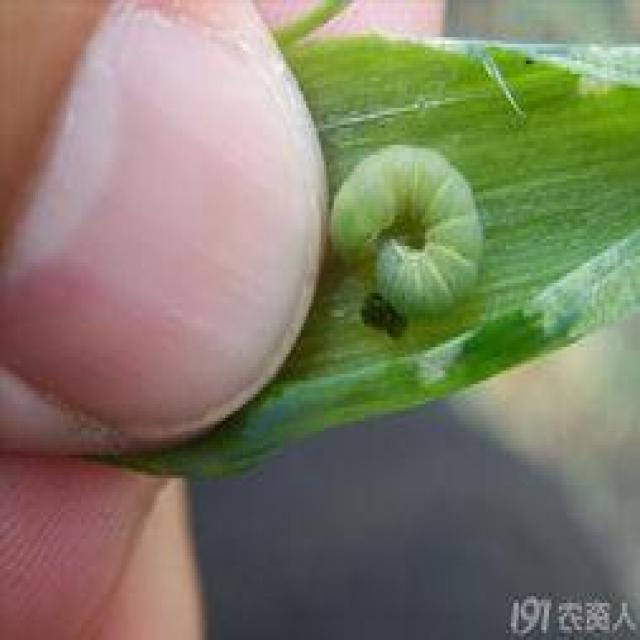BeetArmyWorm-Larva-: (324, 136, 497, 319)
